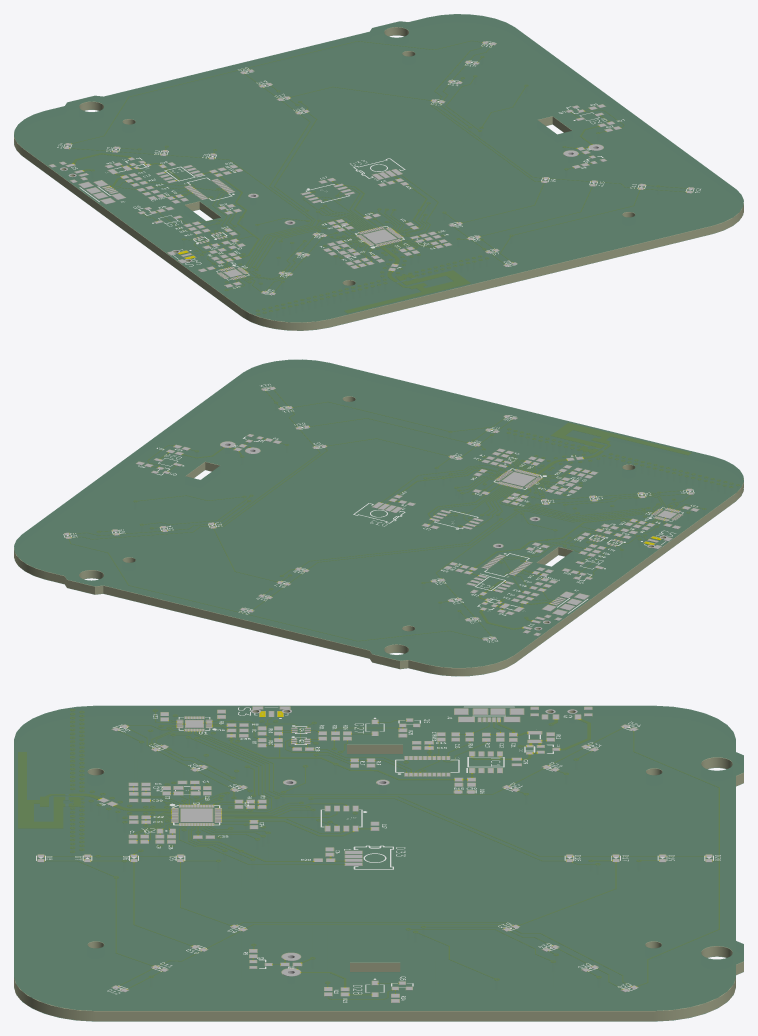
File: thotcon-0xc-badge.glb
3 views of the same model, one above another, from view 1: azimuth 30°, elevation 25°; view 2: azimuth 150°, elevation 25°; view 3: azimuth 270°, elevation 25° (orthographic). The views are drawn at different scales.
Parts seen in each view (by area): view 1: =>[0:1:1:7], =>[0:1:1:9], =>[0:1:1:2], =>[0:1:1:5]; view 2: =>[0:1:1:7], =>[0:1:1:9], =>[0:1:1:2], =>[0:1:1:5]; view 3: =>[0:1:1:7], =>[0:1:1:9], =>[0:1:1:2], =>[0:1:1:5].
Part boxes in pixels (left/top/right/bottom): =>[0:1:1:7]: left=14, top=14, right=743, bottom=330; =>[0:1:1:9]: left=14, top=15, right=743, bottom=330; =>[0:1:1:2]: left=49, top=41, right=693, bottom=314; =>[0:1:1:5]: left=57, top=41, right=700, bottom=295; =>[0:1:1:7]: left=14, top=359, right=743, bottom=676; =>[0:1:1:9]: left=14, top=360, right=743, bottom=676; =>[0:1:1:2]: left=64, top=387, right=739, bottom=640; =>[0:1:1:5]: left=63, top=384, right=697, bottom=642; =>[0:1:1:7]: left=14, top=705, right=743, bottom=1021; =>[0:1:1:9]: left=14, top=706, right=743, bottom=1021; =>[0:1:1:2]: left=18, top=706, right=719, bottom=1002; =>[0:1:1:5]: left=36, top=705, right=720, bottom=1002.
Bounding box in the file's own units: 0.0986 × 0.00166 × 0.0996.
Materials: 4 (4 with a texture image).
